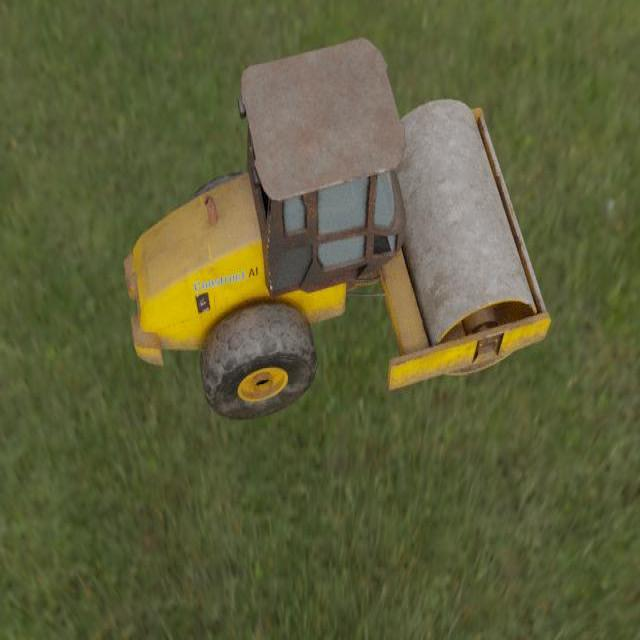Roller: (123, 36, 551, 420)
